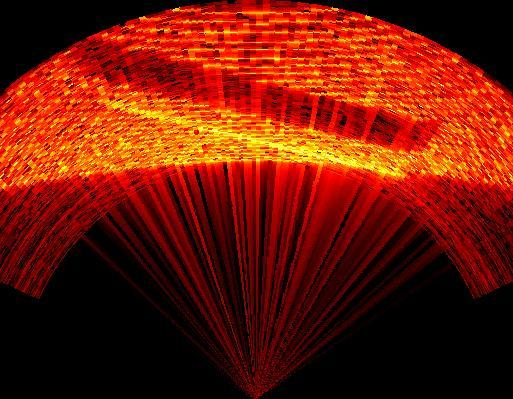pipe: (81, 37, 442, 178)
